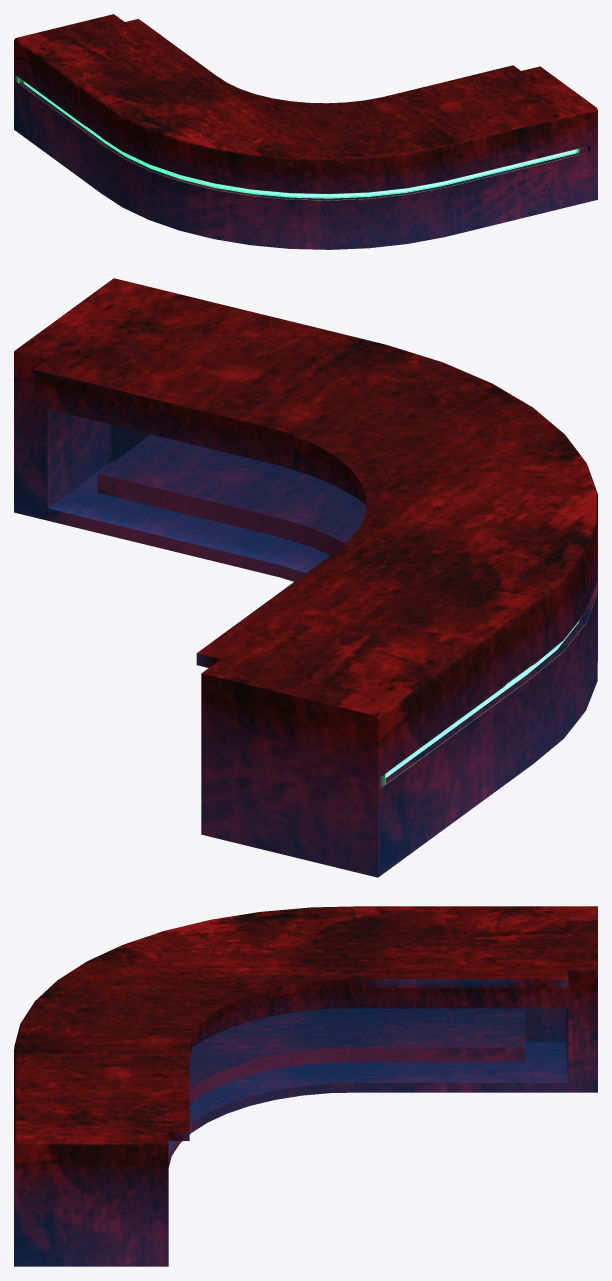
The picture shows the model from 3 angles, top to bottom: view 1: azimuth 30°, elevation 25°; view 2: azimuth 150°, elevation 25°; view 3: azimuth 270°, elevation 25°; orthographic projection. The views are drawn at different scales.
Parts seen in each view (by area): view 1: Counter_Top; view 2: Counter_Top; view 3: Counter_Top.
Boxes of the visible parts, <box> form: Counter_Top: <box>14,14,597,249</box>; Counter_Top: <box>14,278,597,877</box>; Counter_Top: <box>14,906,597,1266</box>.
Bounding box in the file's own units: 360 × 85.76 × 371.
1 material, 1 textured.
